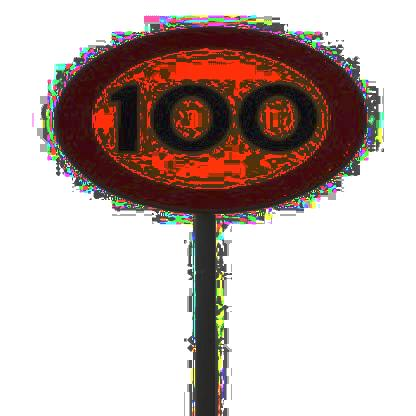Speed Limit -100-: (51, 24, 372, 214)
